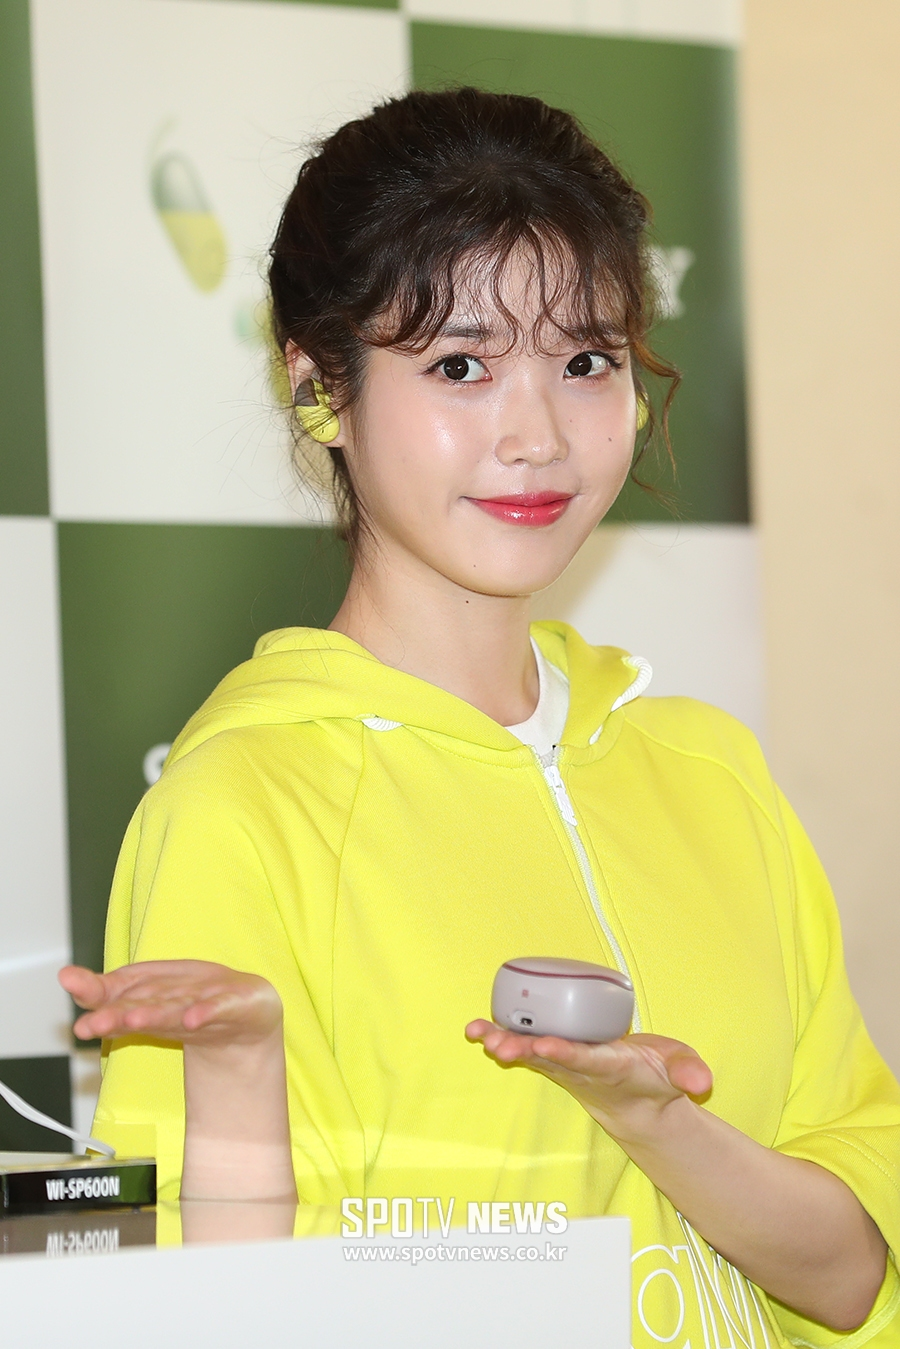earphone: (286, 340, 349, 448)
